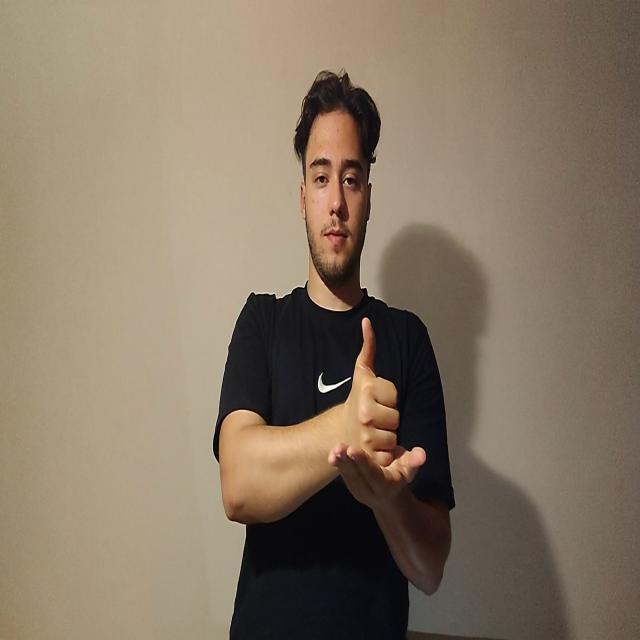help: (327, 317, 428, 500)
